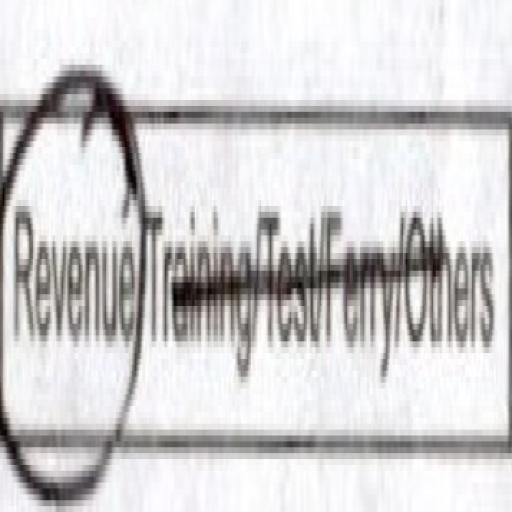check: (0, 6, 146, 512)
